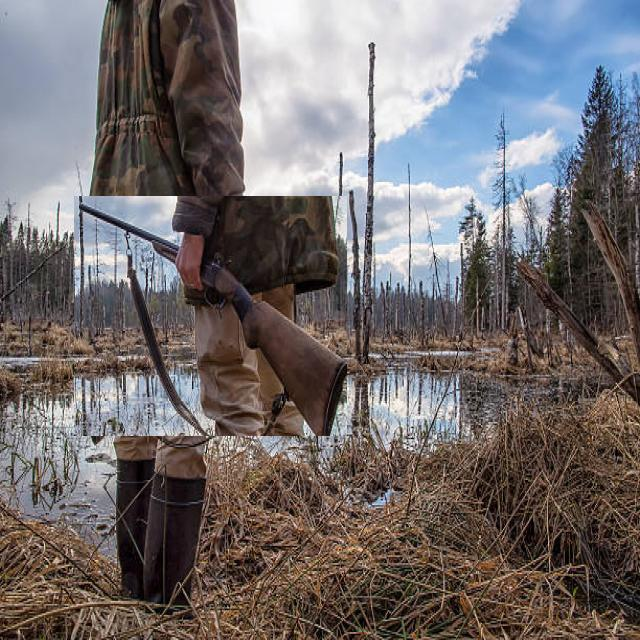poacher: (32, 1, 278, 608)
weapon: (74, 196, 347, 436)
